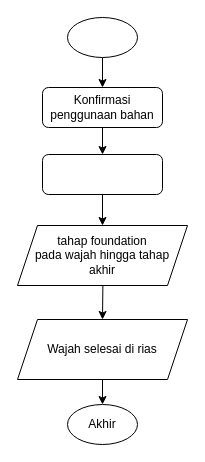
The diagram is 205 pixels wide and 462 high, and some of its shapes have lost their labels. The shapes that lost their labels are listed below. From the top down, each one's centre as x and y in pixels, then its label:
point (102, 37): Mulai
point (102, 174): Pelanggan membersihkan wajah
